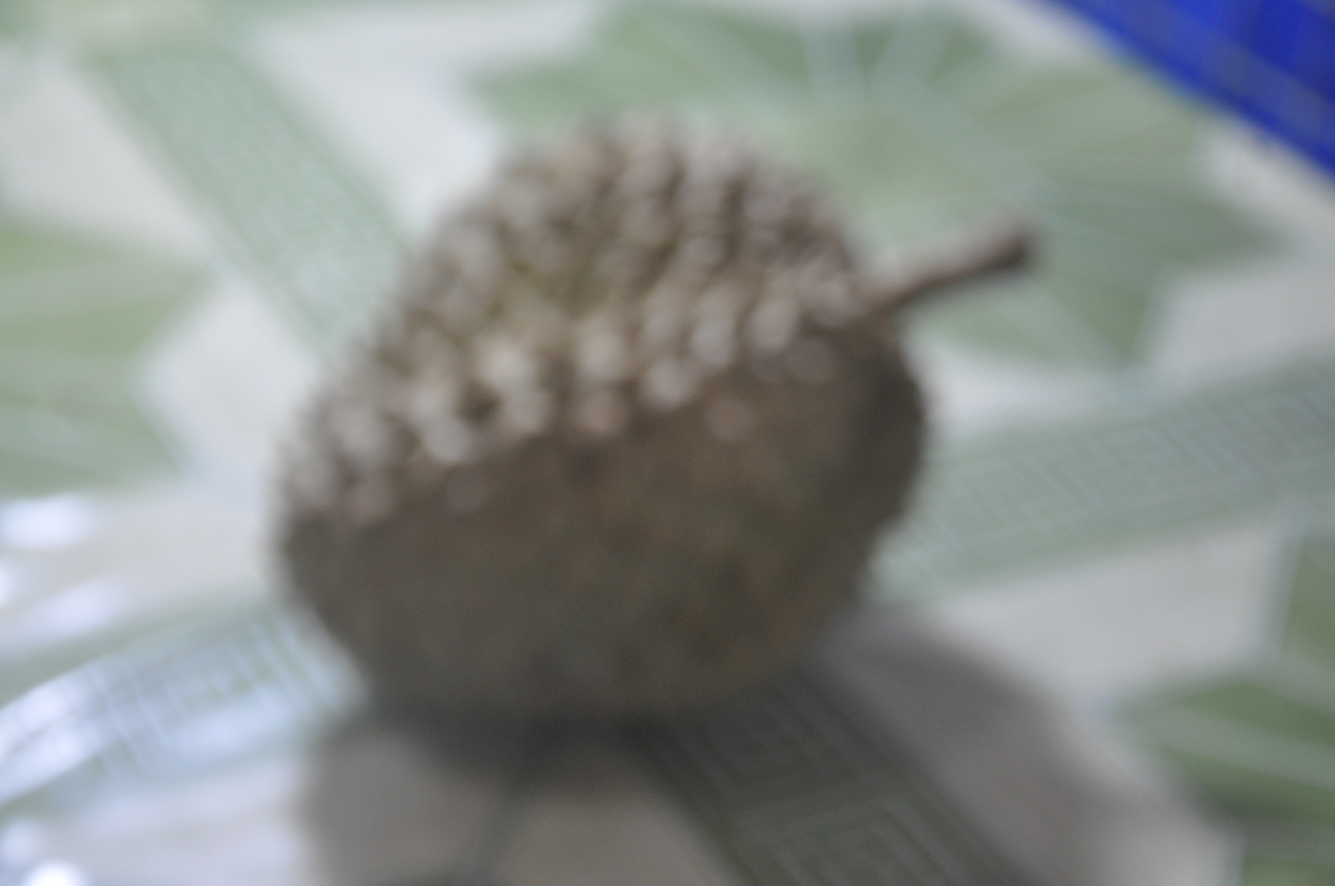mature: (221, 103, 1070, 790)
